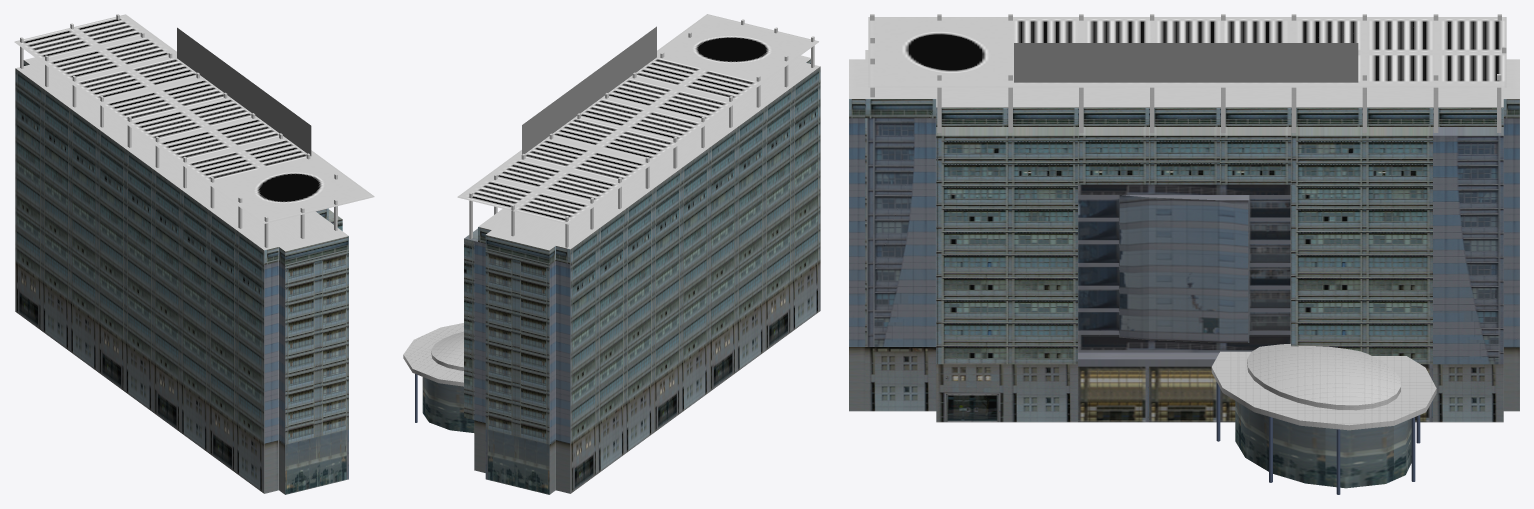
The model's file is side building09.FBX.
3 renders of one model, left to right at view 1: azimuth 30°, elevation 25°; view 2: azimuth 150°, elevation 25°; view 3: azimuth 270°, elevation 25°, orthographic. The views are drawn at different scales.
Parts seen in each view (by area): view 1: 华晶广场; view 2: 华晶广场; view 3: 华晶广场.
Part boxes in pixels (x1,y1,x2,y2): 华晶广场: (14, 14, 374, 494); 华晶广场: (403, 14, 820, 494); 华晶广场: (849, 14, 1519, 494).
Bounding box in the file's own units: 42.93 × 89.88 × 57.01.
